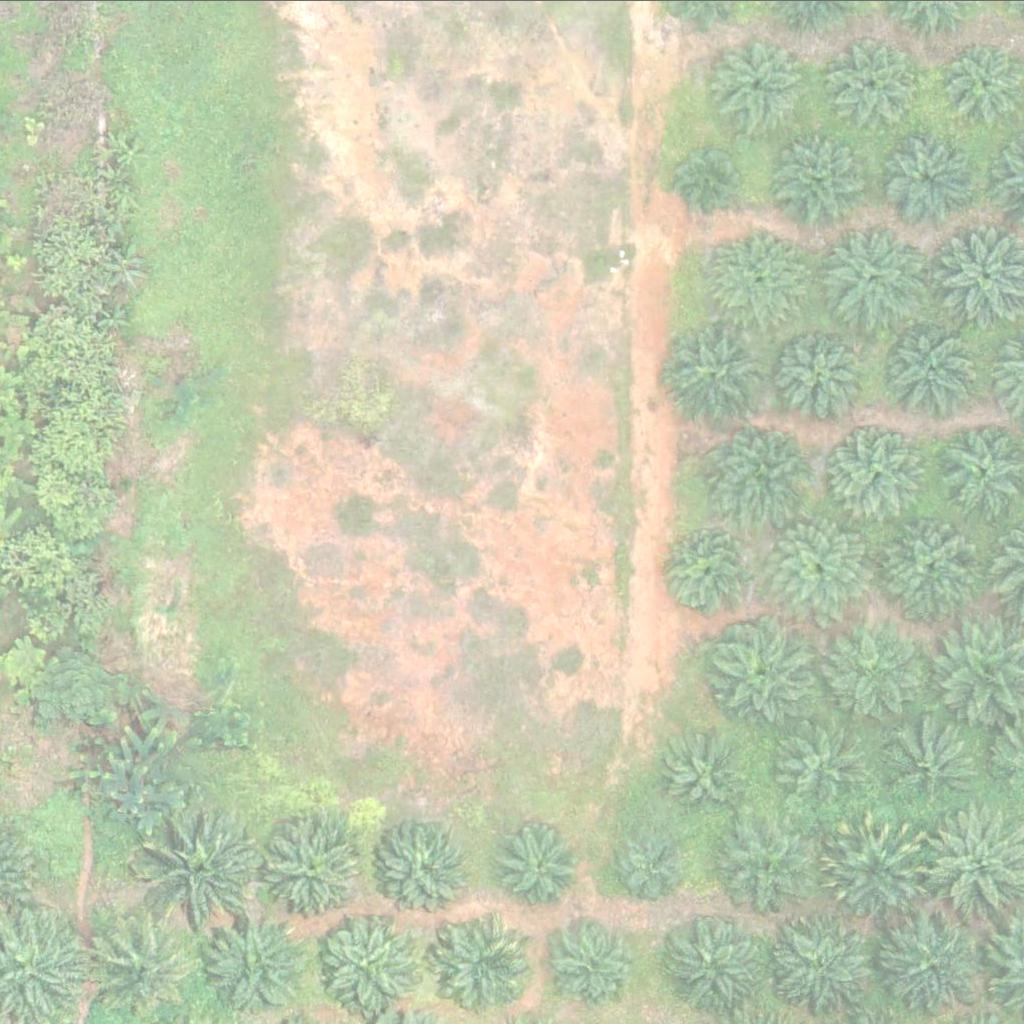Kelapa_Sawit: (311, 907, 425, 1020), (764, 509, 878, 622), (876, 505, 990, 618), (820, 811, 933, 924), (661, 908, 774, 1021), (147, 810, 260, 922), (205, 905, 318, 1017), (769, 908, 882, 1020), (661, 315, 774, 427), (95, 912, 196, 1012), (261, 818, 362, 918), (717, 816, 818, 916), (882, 915, 983, 1015), (716, 419, 817, 519), (775, 318, 876, 418), (881, 316, 982, 416), (713, 225, 814, 325), (819, 223, 920, 323), (771, 129, 872, 229), (879, 126, 980, 226), (709, 32, 810, 132), (375, 816, 475, 916), (435, 915, 535, 1015), (716, 623, 816, 723), (826, 610, 926, 710), (825, 419, 925, 519), (833, 36, 922, 124), (499, 823, 587, 911), (661, 728, 749, 816), (891, 717, 979, 805), (781, 713, 869, 800), (551, 922, 639, 1009), (664, 528, 752, 615), (674, 143, 737, 206), (619, 835, 682, 898)
